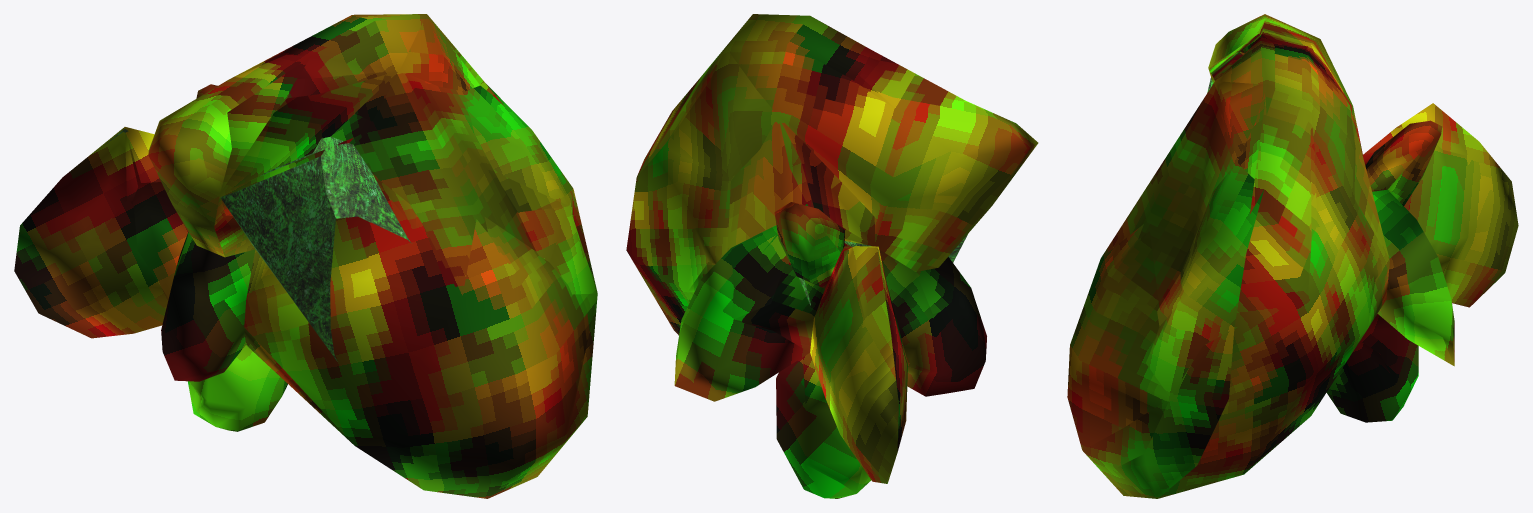
The model's file is af_baloon.fbx.
The picture shows the model from 3 angles, left to right: view 1: azimuth 30°, elevation 25°; view 2: azimuth 150°, elevation 25°; view 3: azimuth 270°, elevation 25°; orthographic projection. The views are drawn at different scales.
Visible parts, largest first — view 1: 0, 1; view 2: 0; view 3: 0.
Part boxes in pixels (bbox=[...]): 0: bbox=[14, 14, 597, 498]; 1: bbox=[105, 129, 411, 361]; 0: bbox=[626, 14, 1038, 498]; 0: bbox=[1067, 14, 1518, 498].
Size of the model in its own units: 0.3208 by 0.3175 by 0.3167.
